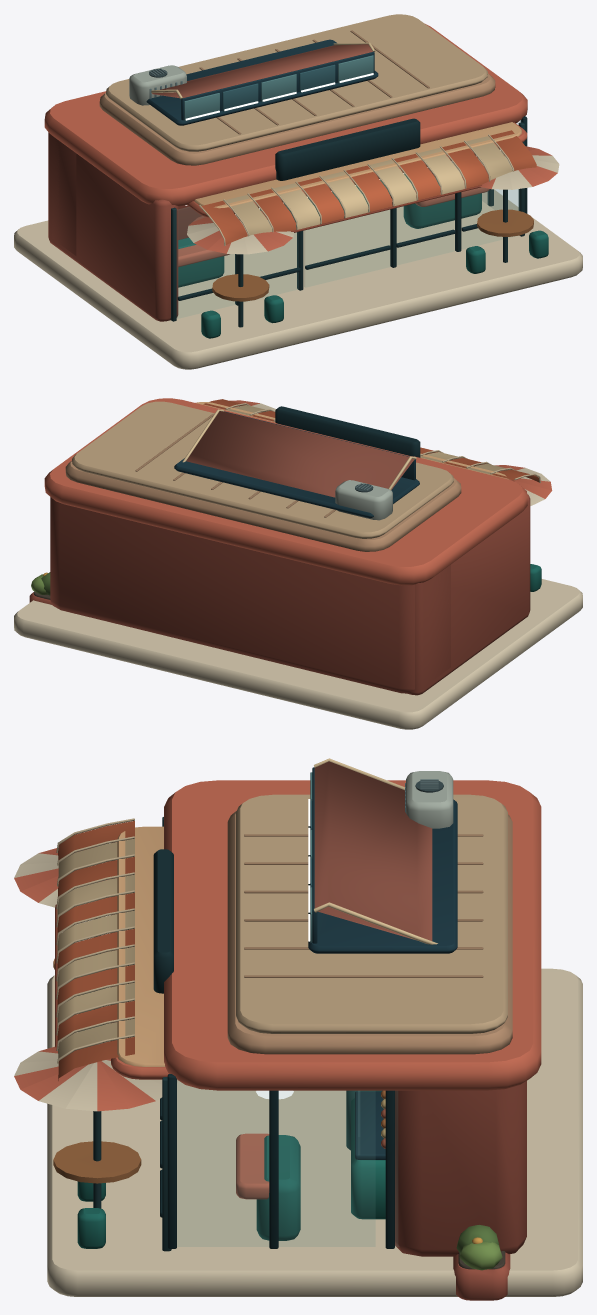
The model's file is restaurant.glb.
The picture shows the model from 3 angles, top to bottom: view 1: azimuth 30°, elevation 25°; view 2: azimuth 150°, elevation 25°; view 3: azimuth 270°, elevation 25°; orthographic projection. The views are drawn at different scales.
Parts seen in each view (by area): view 1: Restaurant, Glazing; view 2: Restaurant; view 3: Restaurant, Glazing.
Part boxes in pixels (left/top/right/bottom): Restaurant: left=14, top=14, right=582, bottom=369; Glazing: left=177, top=120, right=521, bottom=317; Restaurant: left=14, top=398, right=582, bottom=729; Restaurant: left=14, top=758, right=582, bottom=1300; Glazing: left=177, top=1079, right=398, bottom=1246.
Bounding box in the file's own units: 8.05 × 3.62 × 6.21.
